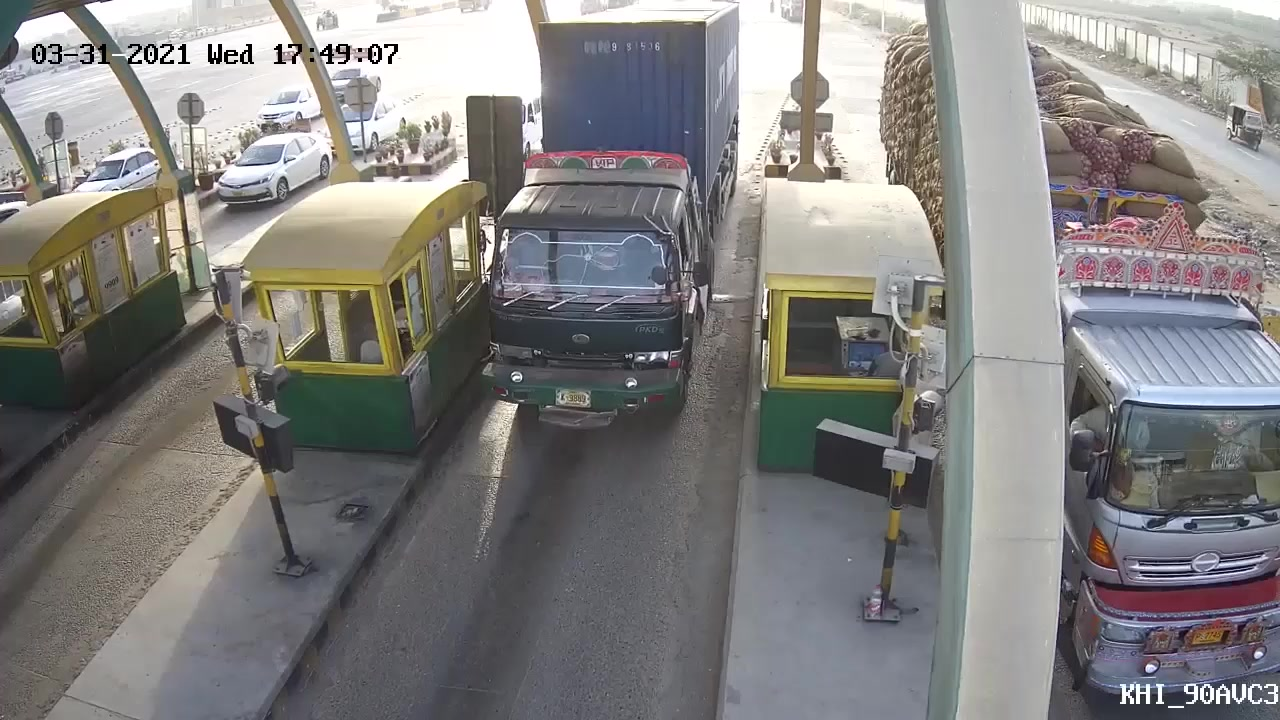F6: (482, 1, 743, 430)
